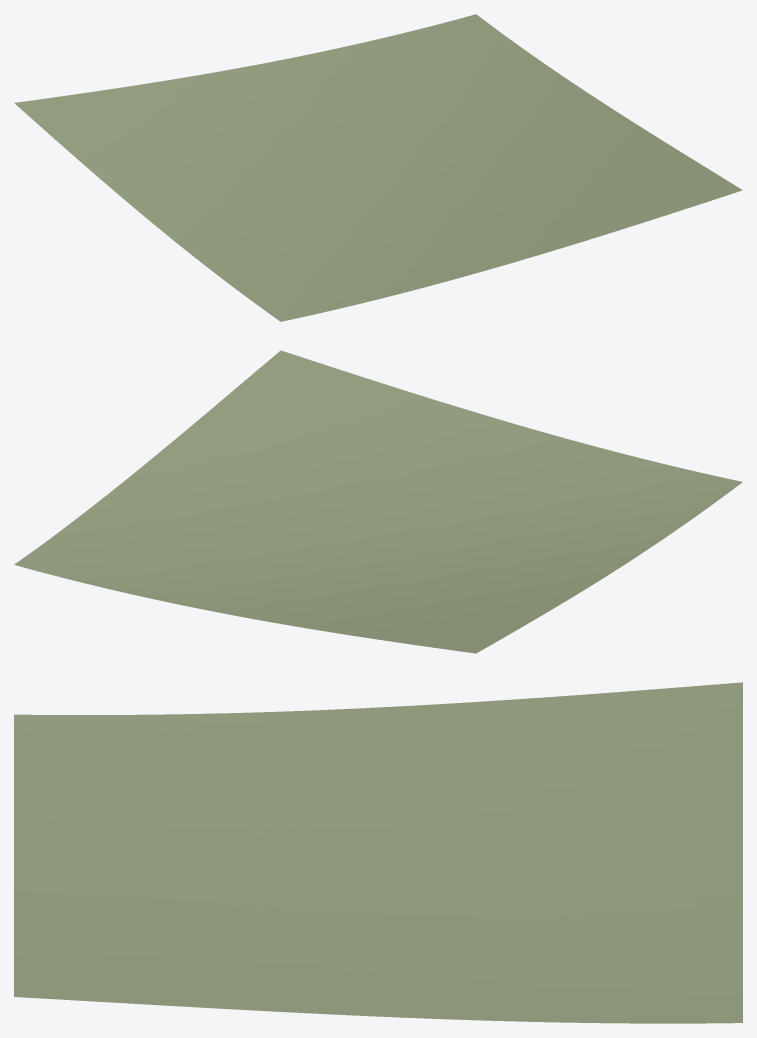
Rendered from alpine-1-4.glb.
3 renders of one model, top to bottom at view 1: azimuth 30°, elevation 25°; view 2: azimuth 150°, elevation 25°; view 3: azimuth 270°, elevation 25°, orthographic. The views are drawn at different scales.
Visible parts, largest first — view 1: alpine-1-4; view 2: alpine-1-4; view 3: alpine-1-4.
Boxes of the visible parts, x1,y1,x2,y2 form: alpine-1-4: (14,14,742,321); alpine-1-4: (14,350,742,653); alpine-1-4: (14,682,742,1023).
Bounding box in the file's own units: 256 × 15.52 × 256.
